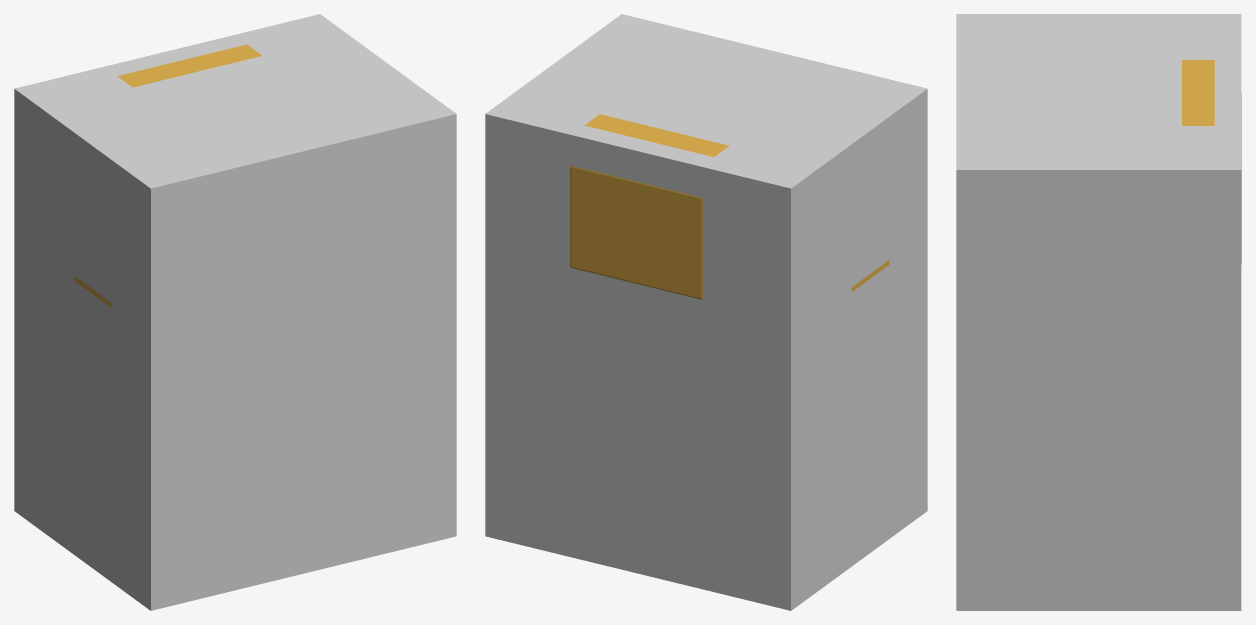
The model's file is chair-E-01.glb.
3 views of the same model, side by side, from view 1: azimuth 30°, elevation 25°; view 2: azimuth 150°, elevation 25°; view 3: azimuth 270°, elevation 25° (orthographic). The views are drawn at different scales.
Parts seen in each view (by area): view 1: Chair E_col, Chair E; view 2: Chair E_col, Chair E; view 3: Chair E_col, Chair E.
Boxes of the visible parts, bbox=[...] form: Chair E_col: bbox=[14, 14, 456, 610]; Chair E: bbox=[74, 44, 262, 307]; Chair E_col: bbox=[485, 14, 927, 610]; Chair E: bbox=[570, 114, 889, 299]; Chair E_col: bbox=[956, 14, 1241, 610]; Chair E: bbox=[1182, 60, 1241, 264].
Size of the model in its own units: 4.3 by 5.67 by 3.33.
